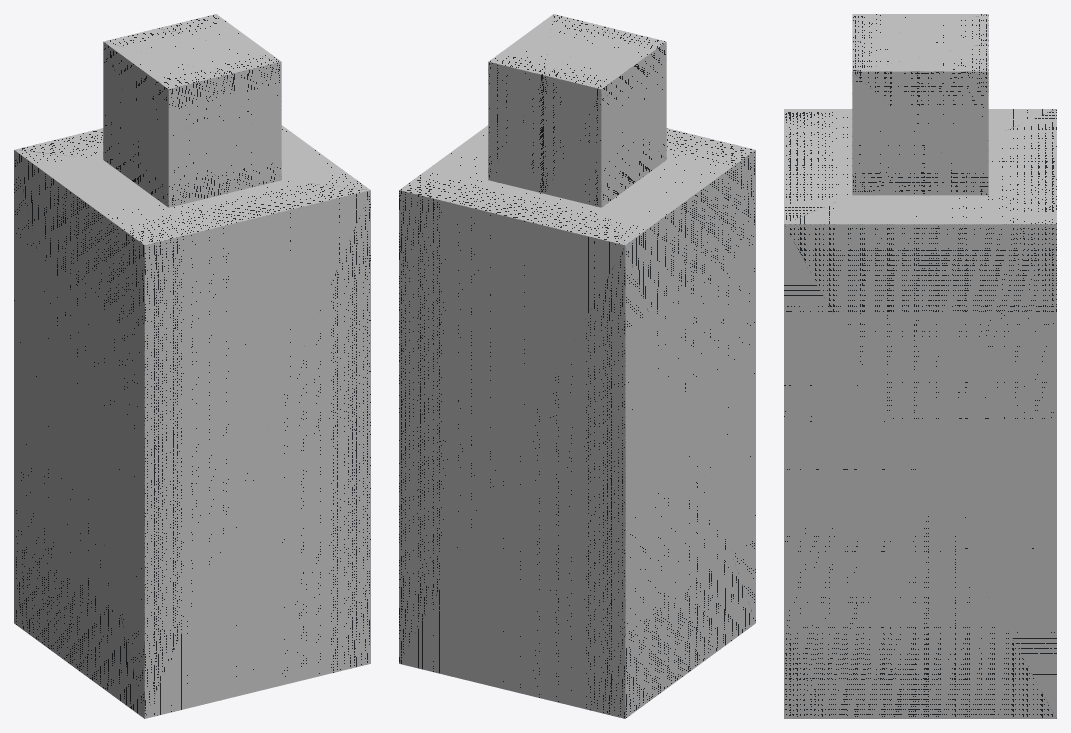
File: candle.fbx
3 renders of one model, left to right at view 1: azimuth 30°, elevation 25°; view 2: azimuth 150°, elevation 25°; view 3: azimuth 270°, elevation 25°, orthographic. The views are drawn at different scales.
Visible parts, largest first — view 1: generated; view 2: generated; view 3: generated.
Part boxes in pixels (bbox=[...]): generated: bbox=[14, 14, 370, 718]; generated: bbox=[399, 14, 755, 718]; generated: bbox=[784, 14, 1056, 718].
Bounding box in the file's own units: 20 × 50 × 20.
1 material, 1 textured.
